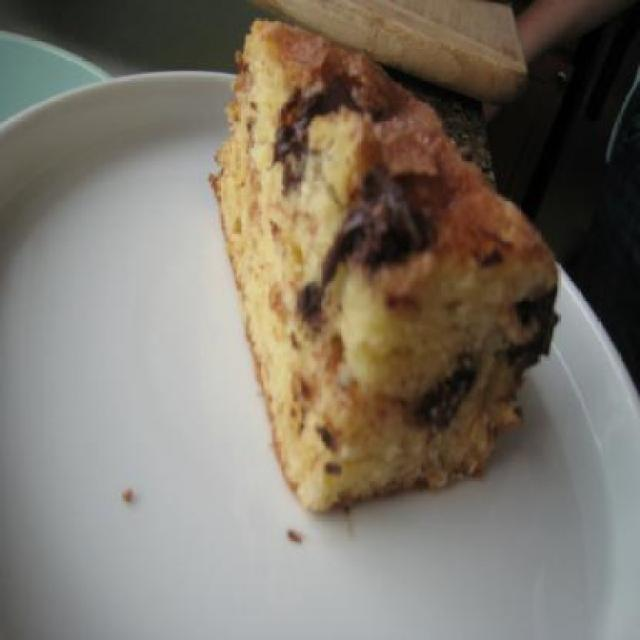Bread: (210, 15, 558, 511)
